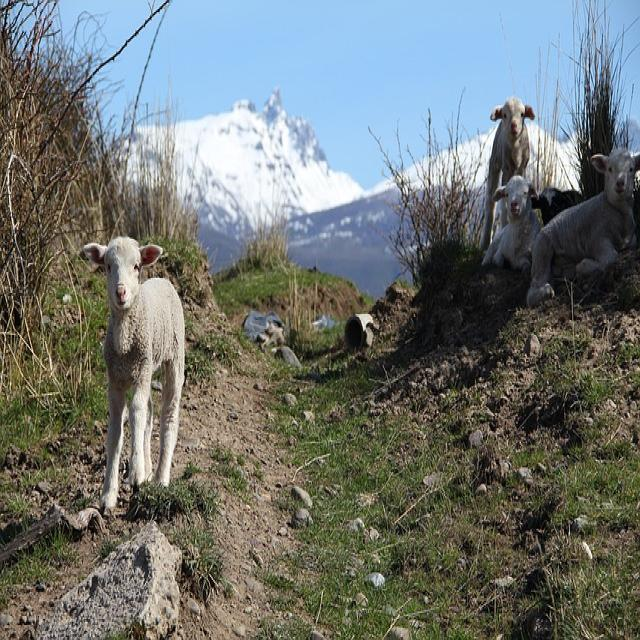goat: (82, 237, 188, 517)
